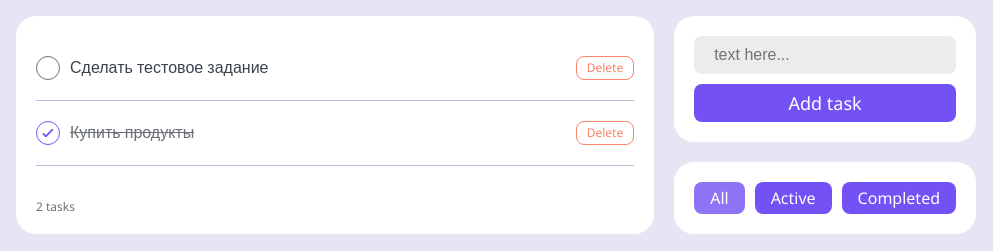
Test case: App component › должен рендерить список задач, фильтры и форму
Expected: the text "Сделать тестовое задание" is shown, [70,58,268,78]
Expected: the text "Купить продукты" is shown, [70,123,194,143]
Click the button "Active".
click(793, 198)  # box [755,182,832,214]
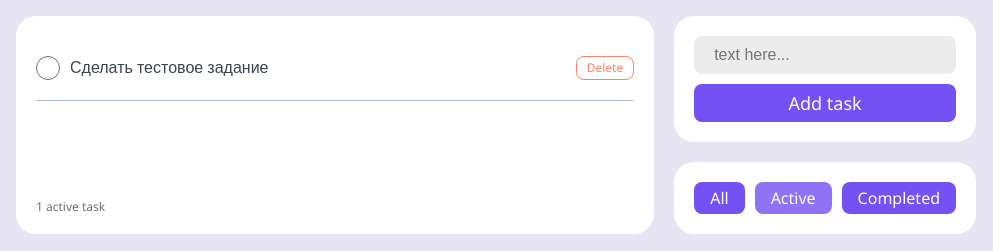
Expected: the text "Сделать тестовое задание" is shown, [70,58,268,78]
Result: the text "Купить продукты" is gone
Click the button "Completed".
click(899, 198)  # box [842,182,956,214]
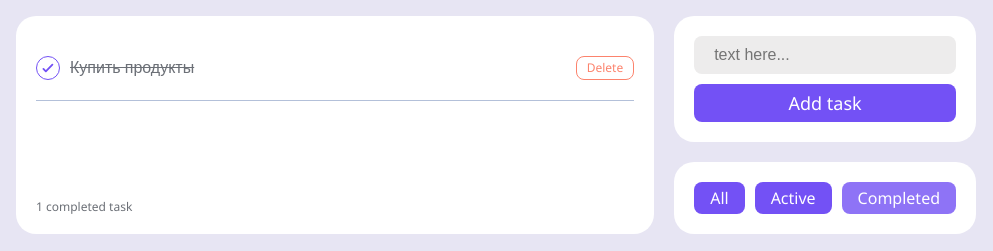
Result: the text "Купить продукты" is shown at [70,58,194,78]
